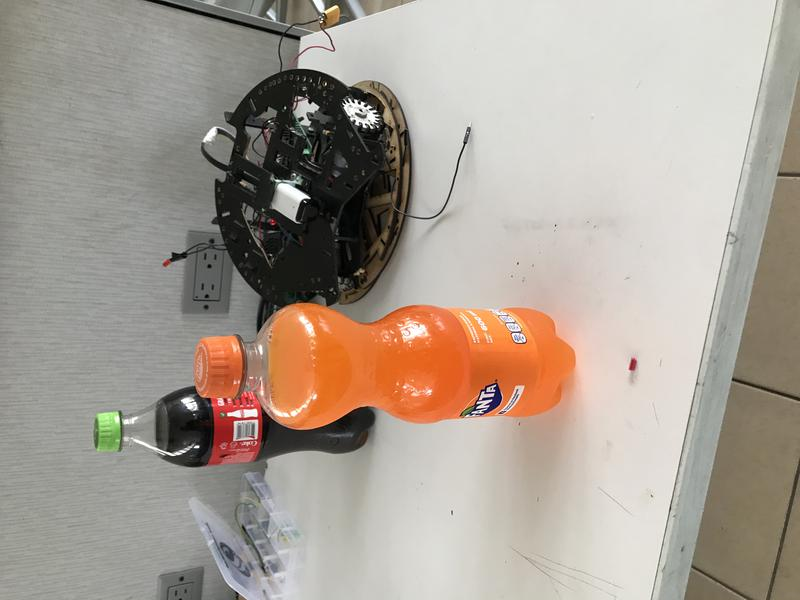coca_cola: (94, 384, 377, 469)
fanta: (194, 303, 577, 430)
